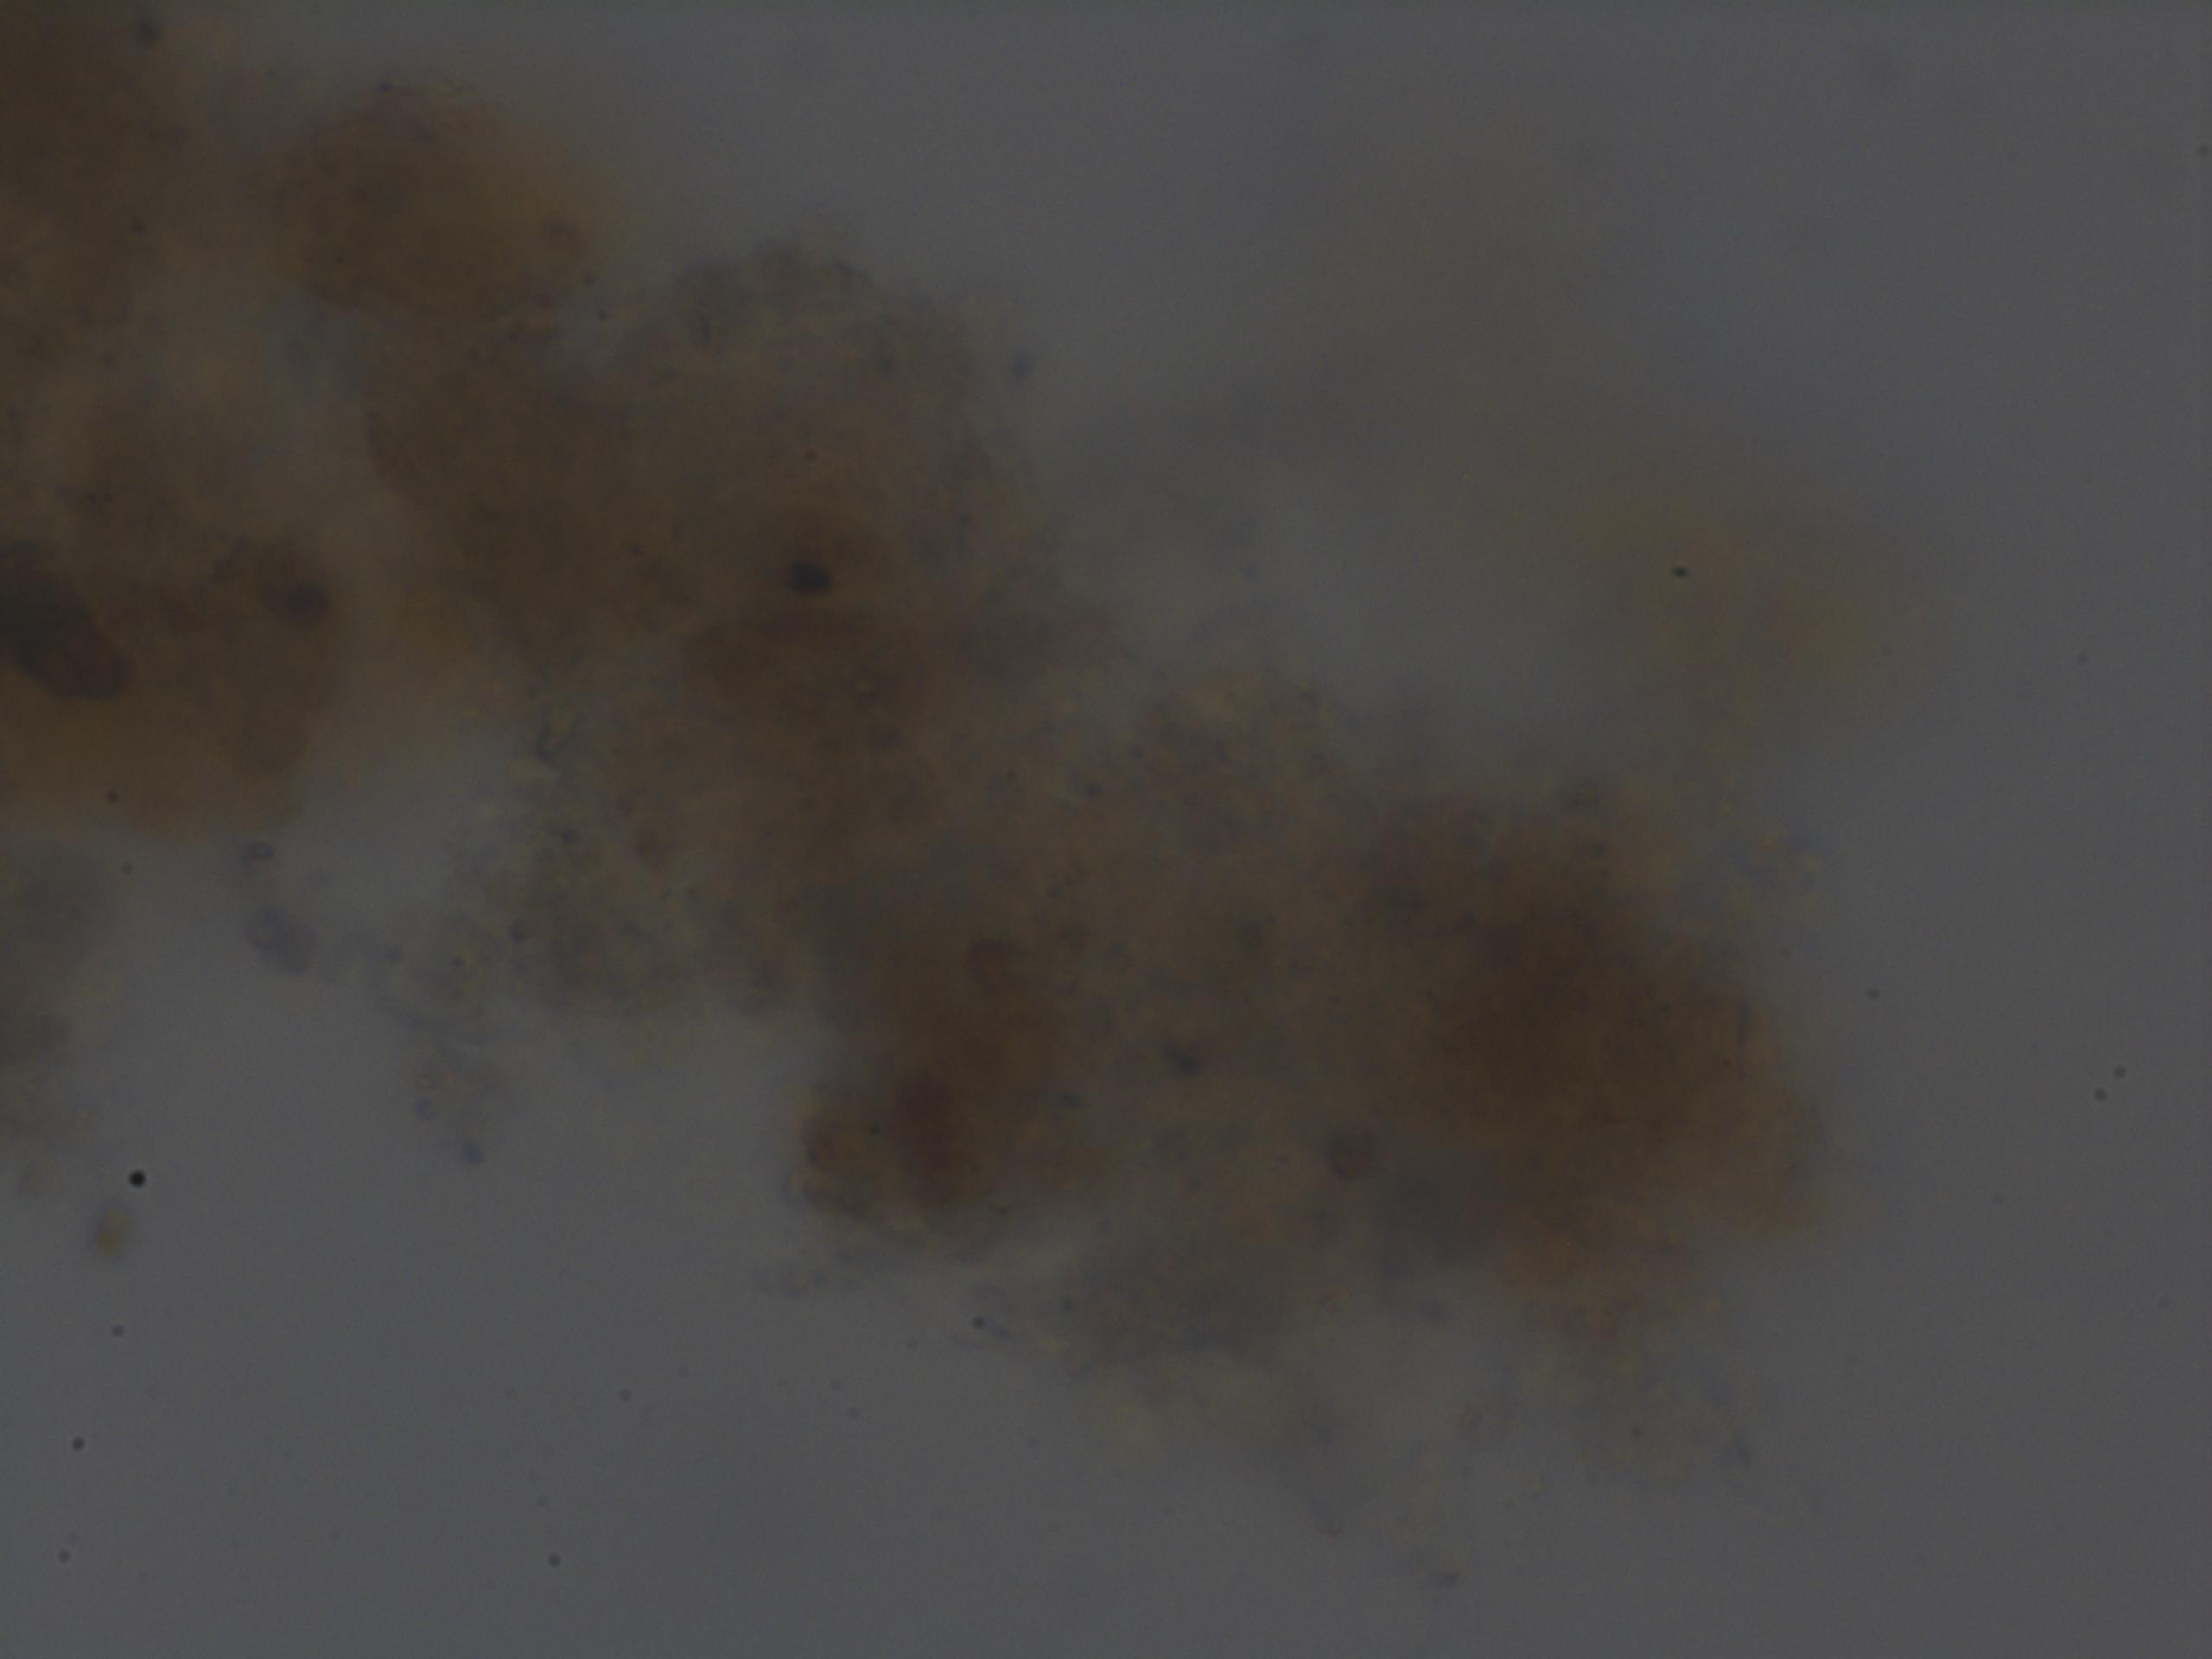open_floc: (0, 0, 1848, 1488)
